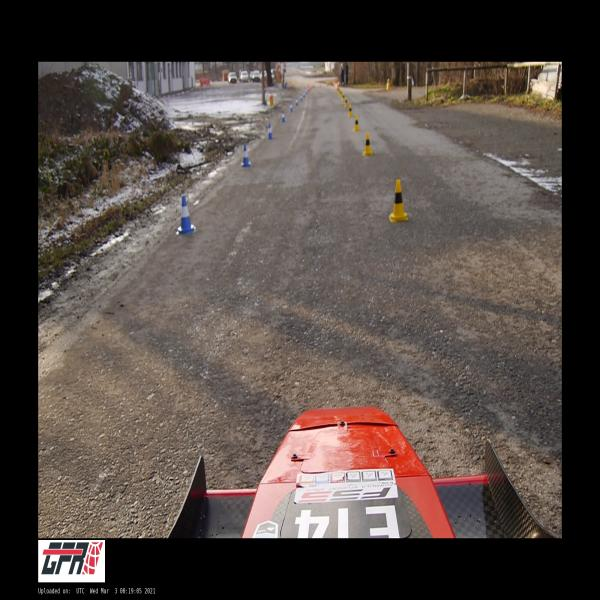blue_cone: (176, 196, 196, 235), (240, 145, 251, 167), (267, 123, 273, 139), (281, 110, 285, 122), (289, 102, 293, 112), (294, 98, 298, 105), (299, 94, 303, 100), (302, 90, 305, 96), (305, 88, 307, 94)
yellow_cone: (389, 180, 408, 222), (363, 132, 373, 157), (352, 116, 360, 131), (348, 103, 353, 116), (344, 96, 348, 107), (386, 78, 390, 85), (342, 92, 345, 100), (340, 90, 342, 96)
